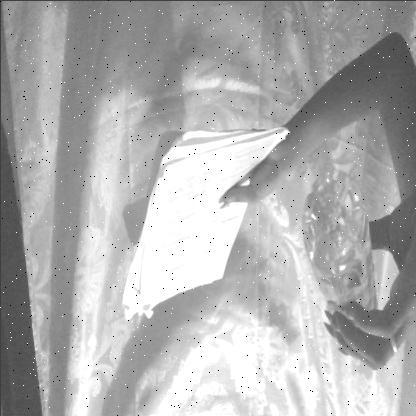Plastic Bottle: (287, 139, 384, 385)
